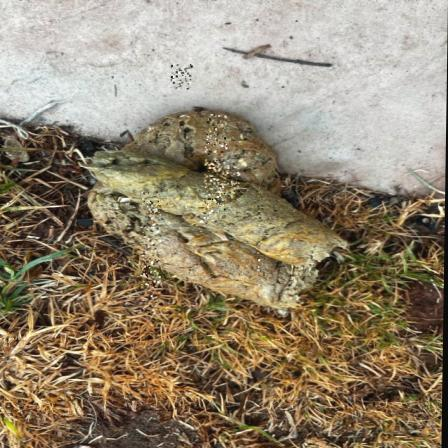dog-poop: (81, 100, 360, 326)
